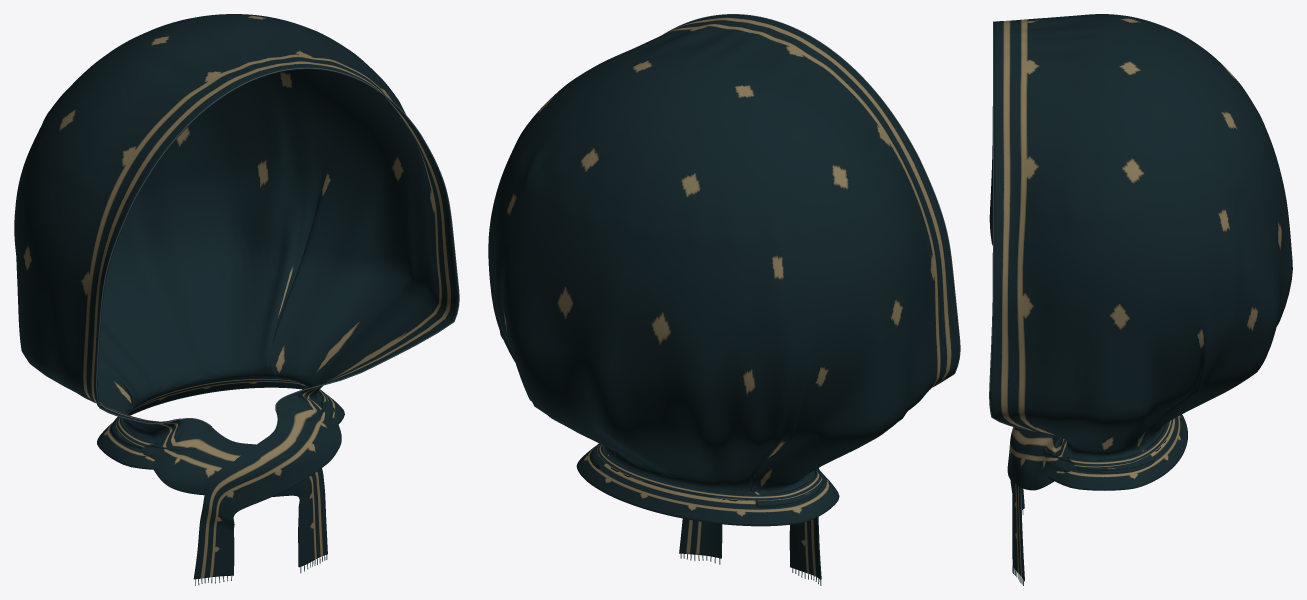
The model's file is Masculine-sweatshirt-pashmina239-headgear.glb.
3 views of the same model, side by side, from view 1: azimuth 30°, elevation 25°; view 2: azimuth 150°, elevation 25°; view 3: azimuth 270°, elevation 25° (orthographic). The views are drawn at different scales.
Parts seen in each view (by area): view 1: 226 headgear / Headwear / continuous woven pashmina239, 226 headgear / Headwear / face edge239; view 2: 226 headgear / Headwear / continuous woven pashmina239, 226 headgear / Headwear / face edge239; view 3: 226 headgear / Headwear / continuous woven pashmina239, 226 headgear / Headwear / face edge239.
Part boxes in pixels (x1,y1,x2,y2): 226 headgear / Headwear / continuous woven pashmina239: (14,14,458,579); 226 headgear / Headwear / face edge239: (96,67,459,427); 226 headgear / Headwear / continuous woven pashmina239: (488,14,959,579); 226 headgear / Headwear / face edge239: (663,14,960,386); 226 headgear / Headwear / continuous woven pashmina239: (989,14,1292,581); 226 headgear / Headwear / face edge239: (989,21,1038,431).
Size of the model in its own units: 1.03 by 1.35 by 0.7127.
3 materials, 1 textured.
